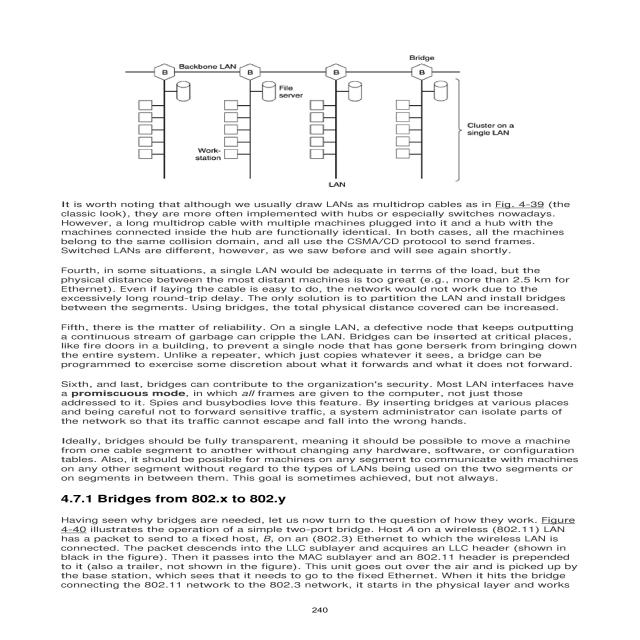diagram: (39, 39, 587, 264)
